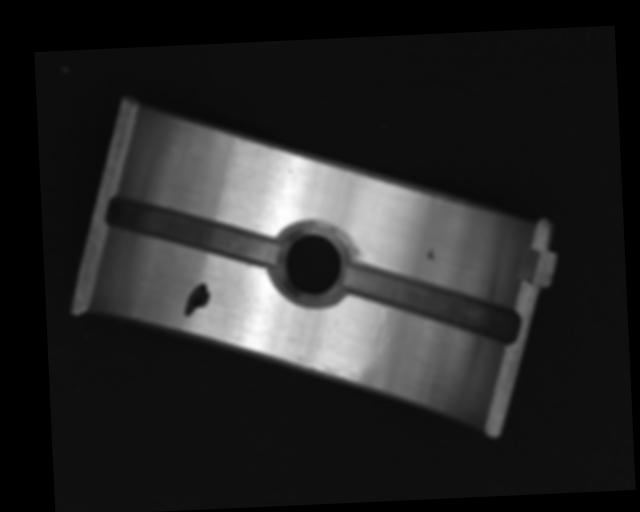blot: (182, 282, 211, 316)
bruise: (425, 247, 436, 260)
gap: (344, 255, 518, 351), (106, 188, 278, 269)
hole: (278, 219, 350, 305)
nick: (367, 308, 391, 356)
